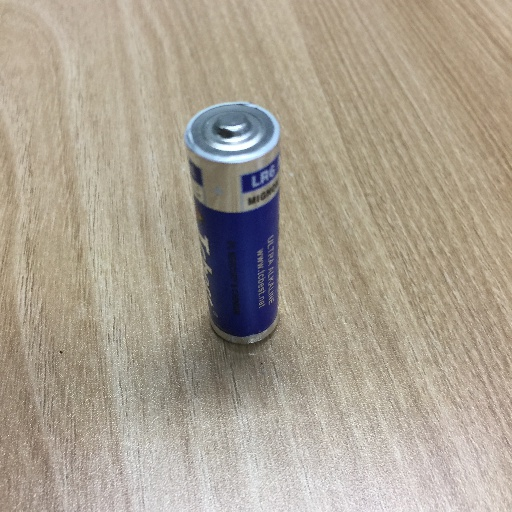Battery_0: (172, 82, 306, 366)
